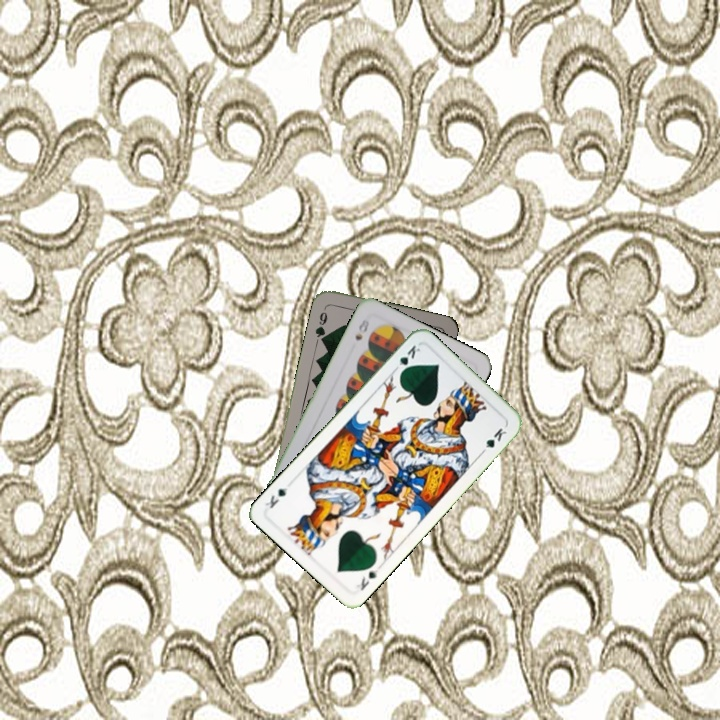G9: (311, 302, 330, 343)
GK: (390, 341, 423, 377), (352, 565, 381, 593)
S8: (351, 315, 372, 343)
